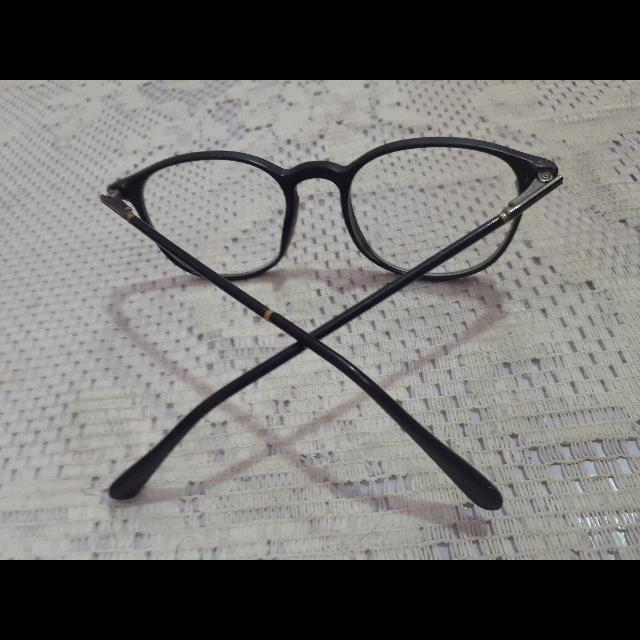glasses: (98, 135, 572, 510)
